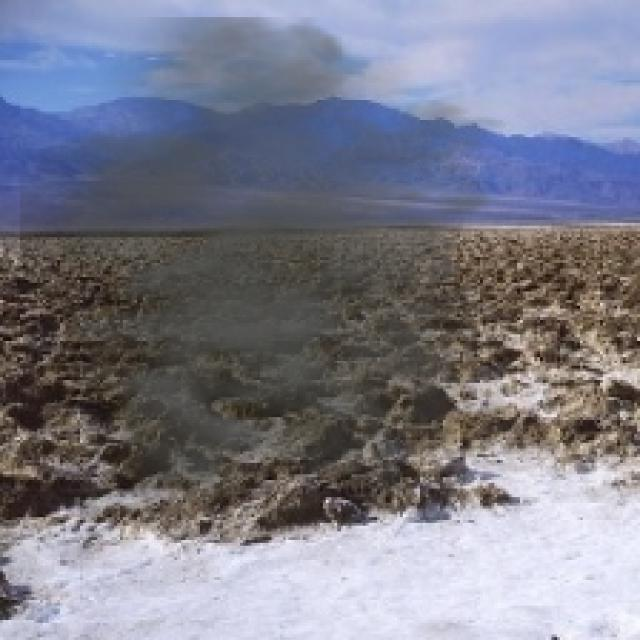smoke: (20, 17, 554, 534)
